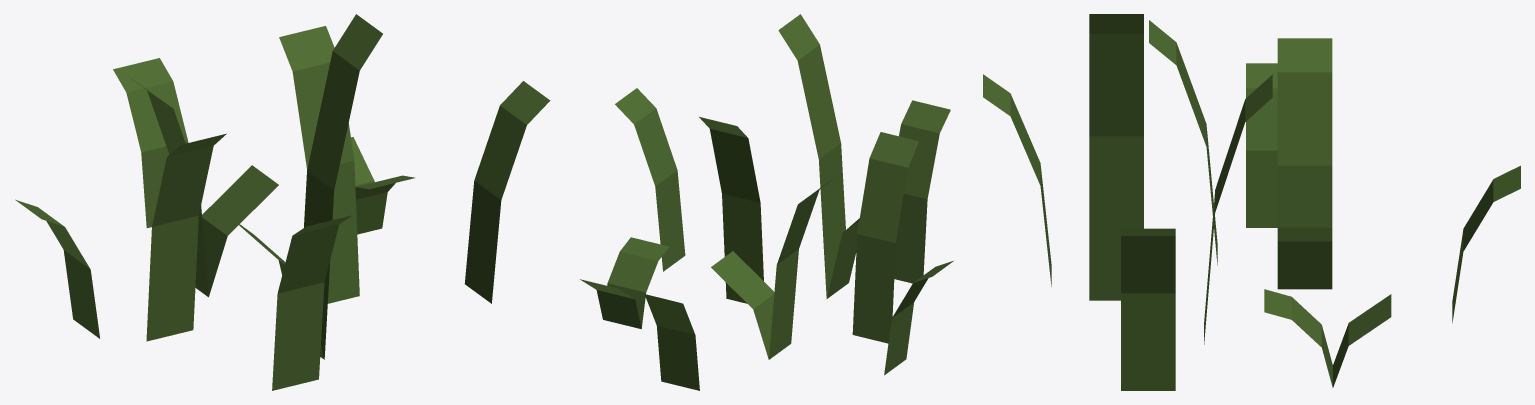
File: grass.glb
3 views of the same model, side by side, from view 1: azimuth 30°, elevation 25°; view 2: azimuth 150°, elevation 25°; view 3: azimuth 270°, elevation 25° (orthographic). The views are drawn at different scales.
Visible parts, largest first — view 1: grass; view 2: grass; view 3: grass.
Boxes of the visible parts, box(x1,y1,x2,y2) form: grass: box(15, 14, 550, 390); grass: box(580, 14, 953, 390); grass: box(983, 14, 1520, 390).
Bounding box in the file's own units: 0.3811 × 0.254 × 0.3922.
